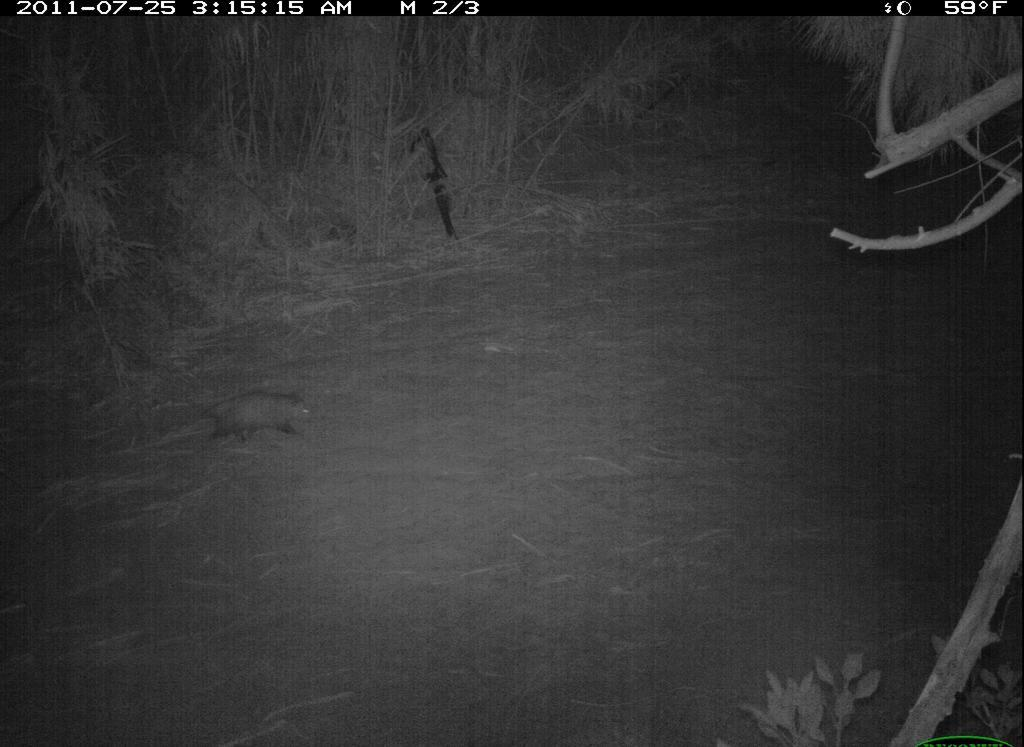opossum: (186, 388, 329, 452)
